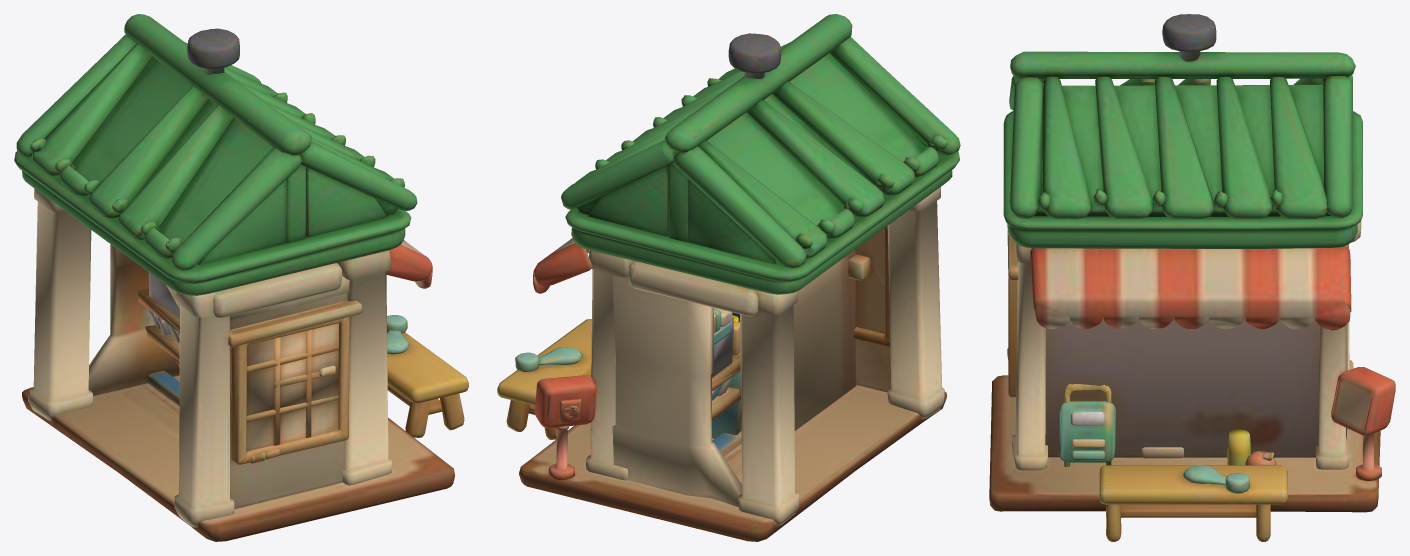
Rendered from bookshop.glb.
The picture shows the model from 3 angles, left to right: view 1: azimuth 30°, elevation 25°; view 2: azimuth 150°, elevation 25°; view 3: azimuth 270°, elevation 25°; orthographic projection.
Visible parts, largest first — view 1: tripo_node_a8040985-a0b2-4497-876b-17e8cbd668db; view 2: tripo_node_a8040985-a0b2-4497-876b-17e8cbd668db; view 3: tripo_node_a8040985-a0b2-4497-876b-17e8cbd668db.
Part boxes in pixels (<box>): tripo_node_a8040985-a0b2-4497-876b-17e8cbd668db: <box>14,14,468,541</box>; tripo_node_a8040985-a0b2-4497-876b-17e8cbd668db: <box>497,14,960,541</box>; tripo_node_a8040985-a0b2-4497-876b-17e8cbd668db: <box>989,14,1395,541</box>.
Bounding box in the file's own units: 0.8613 × 0.998 × 0.877.
Materials: 1 (1 with a texture image).
